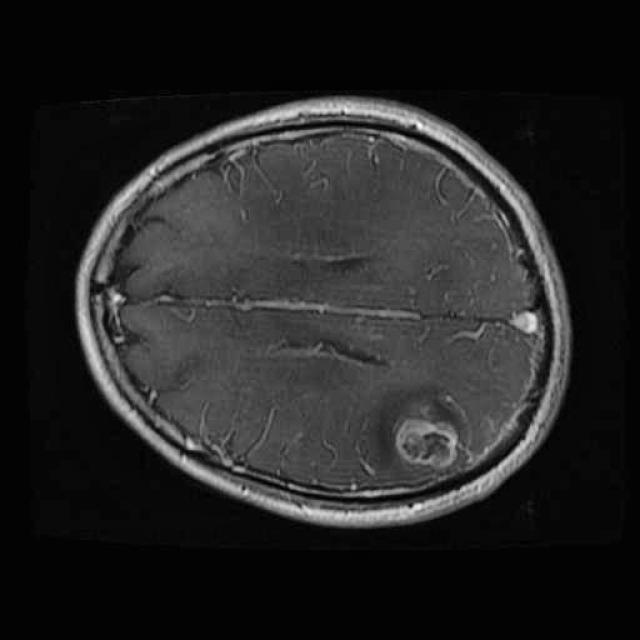Tumor: (372, 392, 477, 488)
